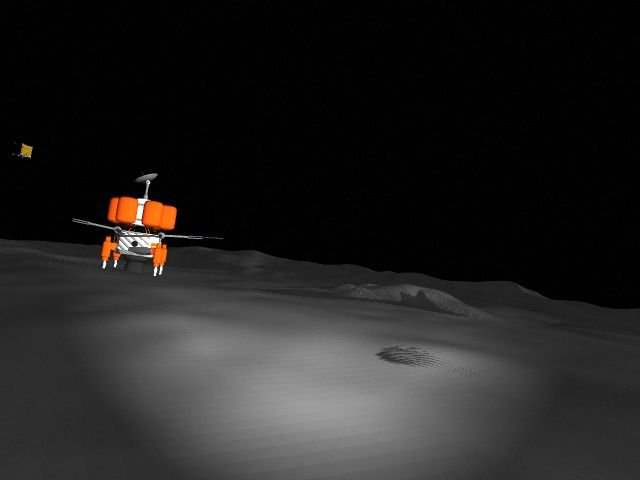cubesat: (8, 140, 36, 164)
